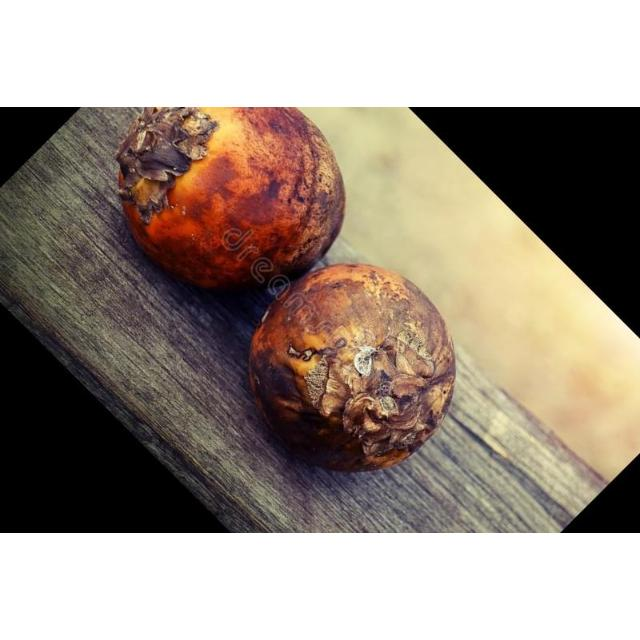damaged: (249, 264, 455, 471), (116, 107, 345, 288)
